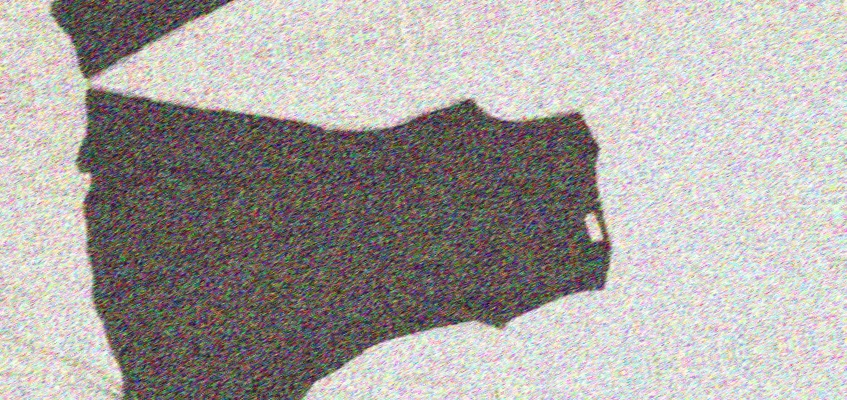Dress: (35, 44, 671, 400), (0, 0, 601, 45), (90, 370, 726, 400)
